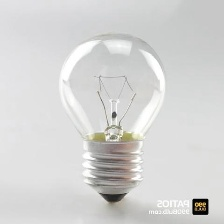light_bulb: (54, 26, 171, 205)
